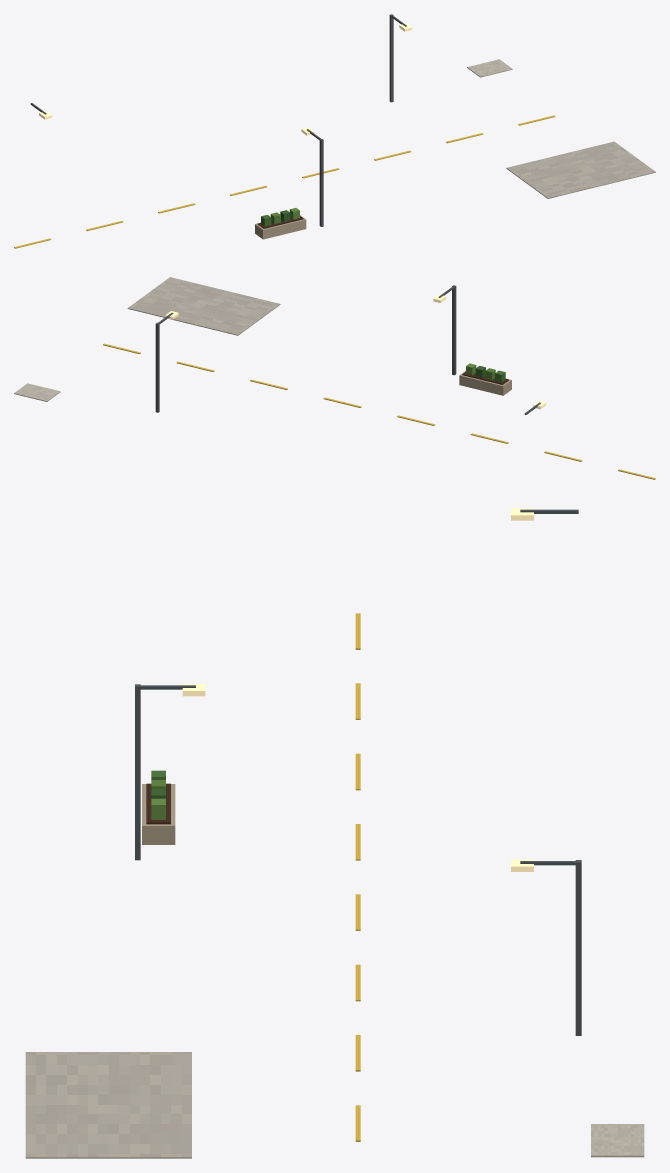
File: structure.glb
The picture shows the model from 3 angles, top to bottom: view 1: azimuth 30°, elevation 25°; view 2: azimuth 150°, elevation 25°; view 3: azimuth 270°, elevation 25°; orthographic projection. The views are drawn at different scales.
Parts seen in each view (by area): view 1: Box24, Box9, Box23, Box15, Box20; view 2: Box24, Box9, Box23, Box20, Box15; view 3: Box24, Box23, Box20, Box9, Box15.
Boxes of the visible parts, x1,y1,x2,y2 form: Box24: (506,141,655,198); Box9: (255,215,306,239); Box23: (467,59,512,77); Box15: (319,139,323,226); Box20: (389,14,393,102); Box24: (127,277,280,335); Box9: (459,371,511,395); Box23: (14,383,60,401); Box20: (155,322,159,412); Box15: (452,285,456,375); Box24: (25,1052,191,1158); Box23: (591,1124,644,1157); Box20: (575,860,581,1035); Box9: (142,784,175,844); Box15: (135,684,140,860).
Size of the model in its own units: 31 by 4.65 by 14.88.
Materials: 11 (2 with a texture image).
